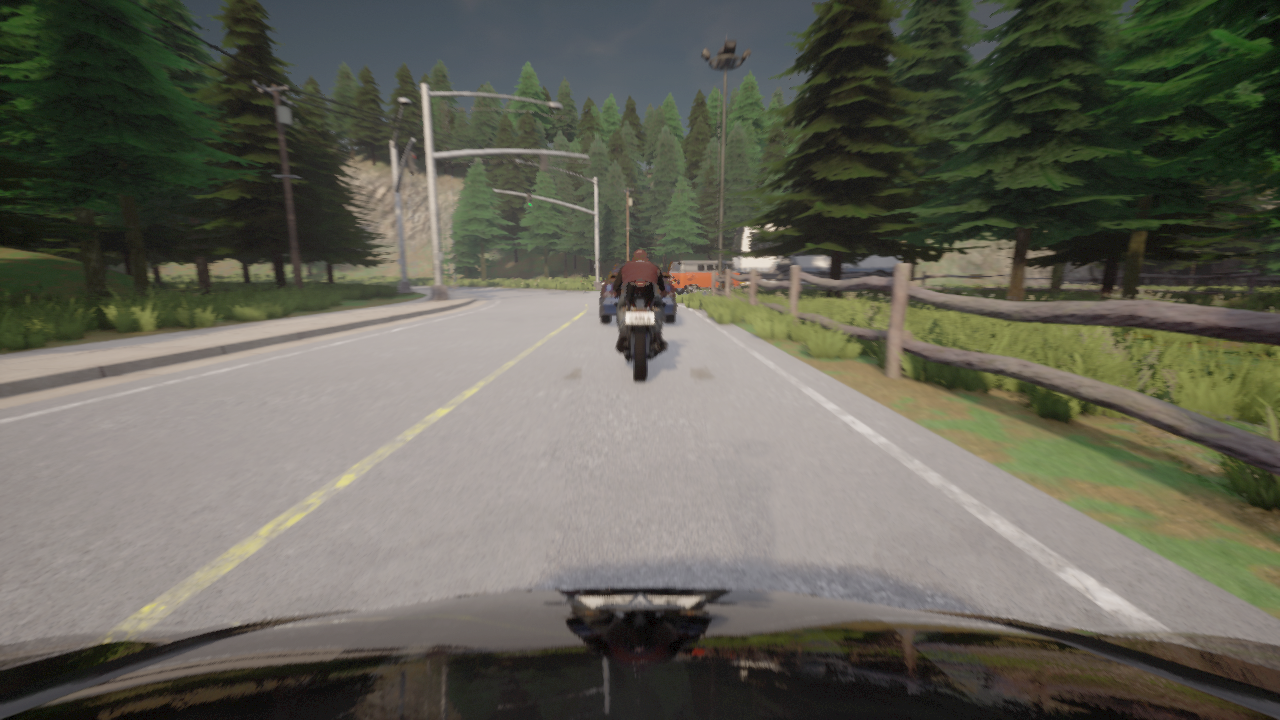cyclist: (0, 588, 1279, 719), (732, 224, 900, 284), (608, 274, 670, 382), (600, 266, 675, 323), (668, 261, 739, 293), (607, 264, 621, 277)
